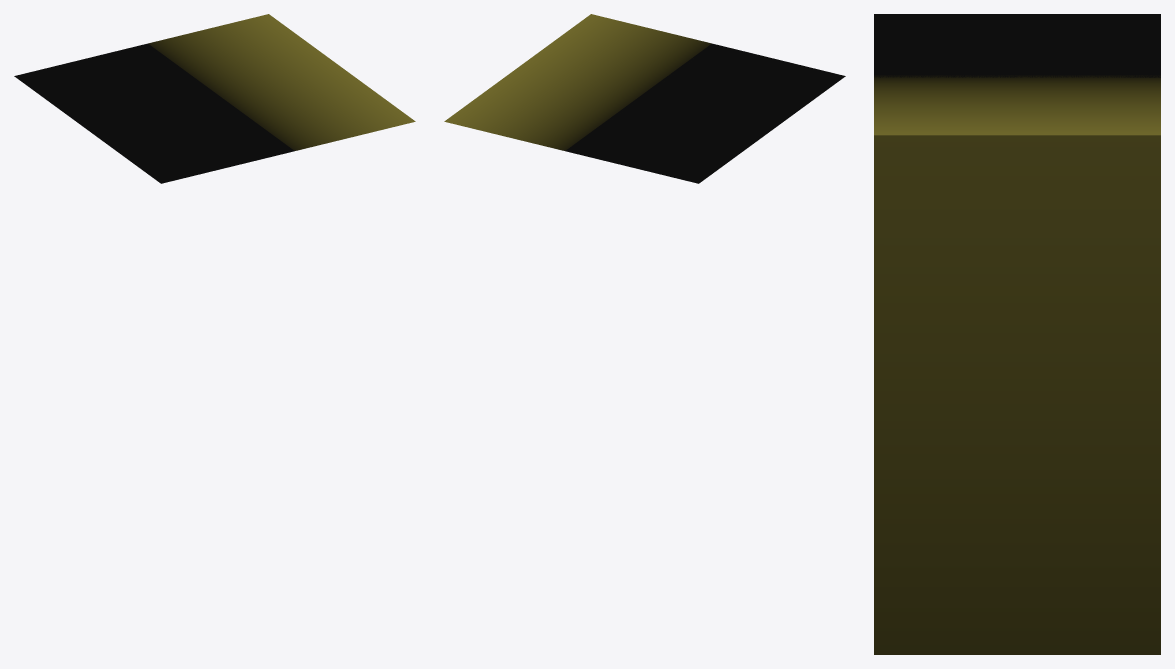
3 renders of one model, left to right at view 1: azimuth 30°, elevation 25°; view 2: azimuth 150°, elevation 25°; view 3: azimuth 270°, elevation 25°, orthographic. The views are drawn at different scales.
Size of the model in its own units: 1 by 2 by 1.
Materials: 1 (1 with a texture image).
